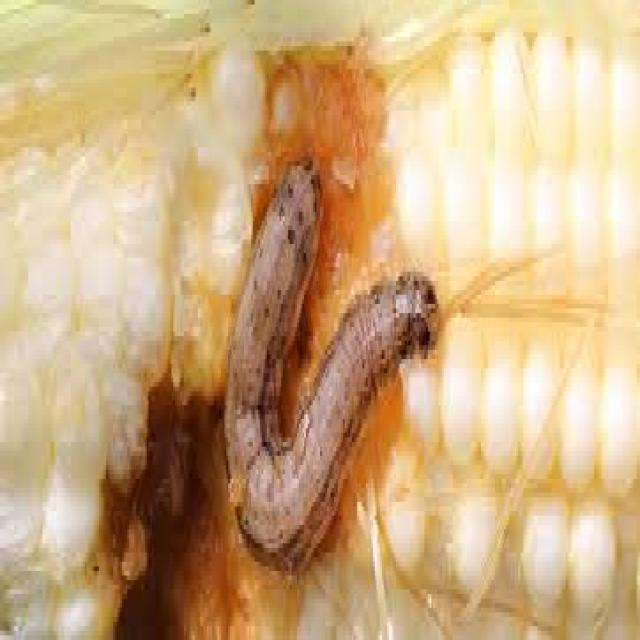Army Worm: (216, 149, 442, 584)
